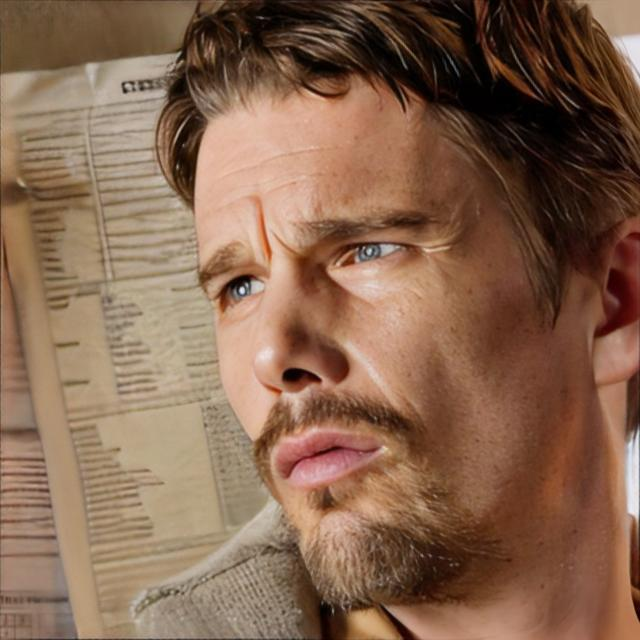anger: (198, 82, 572, 574)
